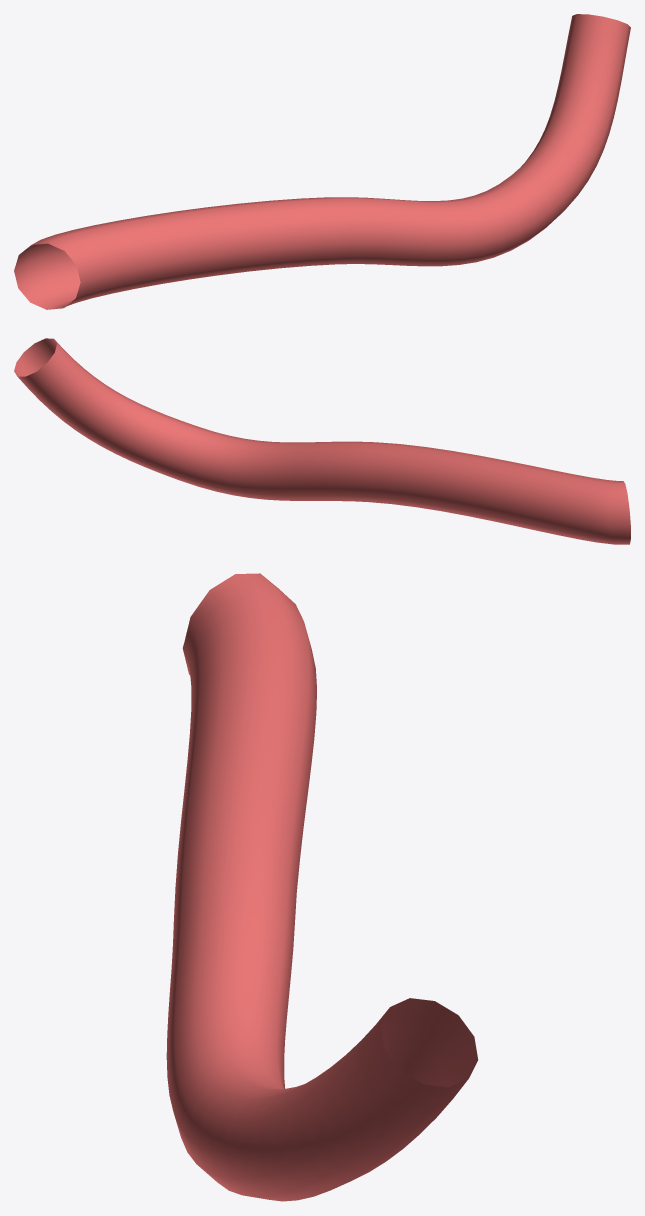
Rendered from Transverse_cervical_artery.l_BezierCurve.116.glb.
3 views of the same model, one above another, from view 1: azimuth 30°, elevation 25°; view 2: azimuth 150°, elevation 25°; view 3: azimuth 270°, elevation 25° (orthographic). The views are drawn at different scales.
Visible parts, largest first — view 1: Transverse_cervical_artery.l_BezierCurve.116; view 2: Transverse_cervical_artery.l_BezierCurve.116; view 3: Transverse_cervical_artery.l_BezierCurve.116.
Boxes of the visible parts, x1,y1,x2,y2 form: Transverse_cervical_artery.l_BezierCurve.116: [14, 14, 630, 309]; Transverse_cervical_artery.l_BezierCurve.116: [14, 338, 630, 544]; Transverse_cervical_artery.l_BezierCurve.116: [166, 573, 478, 1201].
Bounding box in the file's own units: 0.0188 × 0.00461 × 0.00438.
